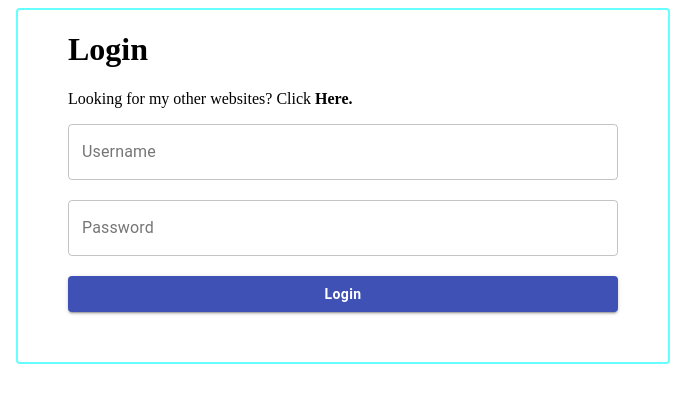
it: LoginFormPage › displays the error message if you click the button after typing in a wrong password
In the field labelled "Username": {"x": 343, "y": 152} left=68, top=124, right=618, bottom=180, type "ScubaDiver"
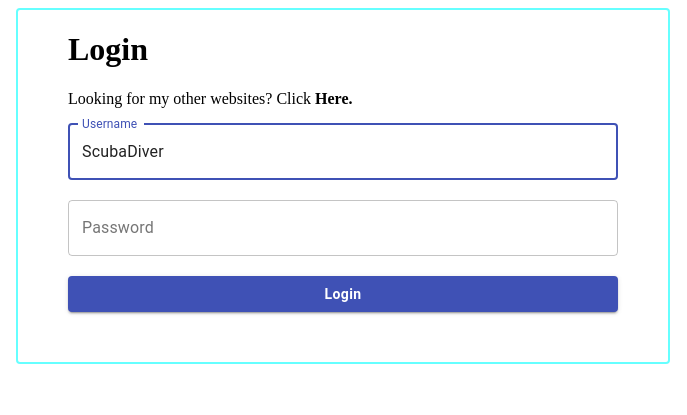
In the field labelled "Password": {"x": 343, "y": 228} left=68, top=200, right=618, bottom=256, type "-1"
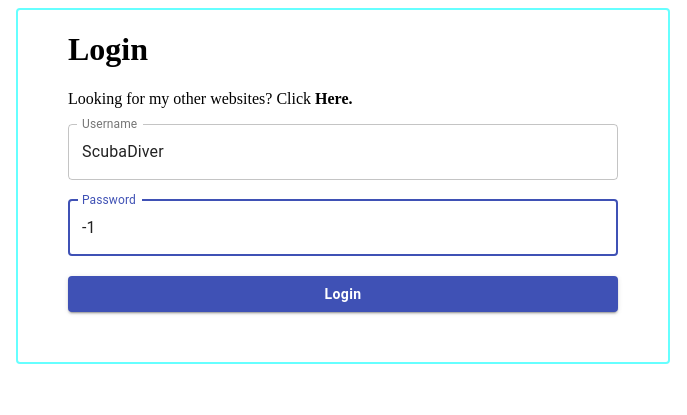
Click the button: {"x": 343, "y": 294} left=68, top=276, right=618, bottom=312
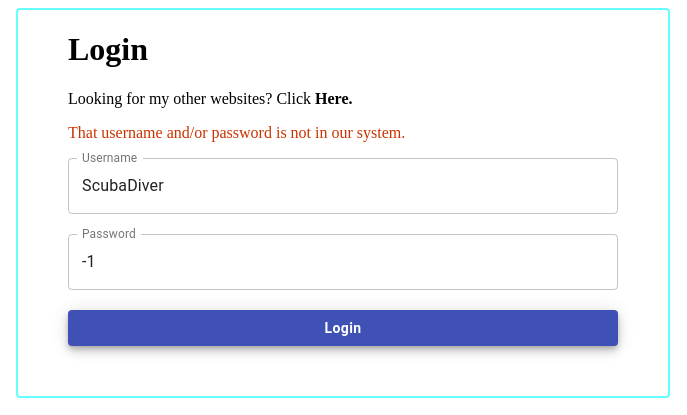
expect the text "That username and/or password is not in our system." is shown: met, box left=68, top=124, right=405, bottom=141
